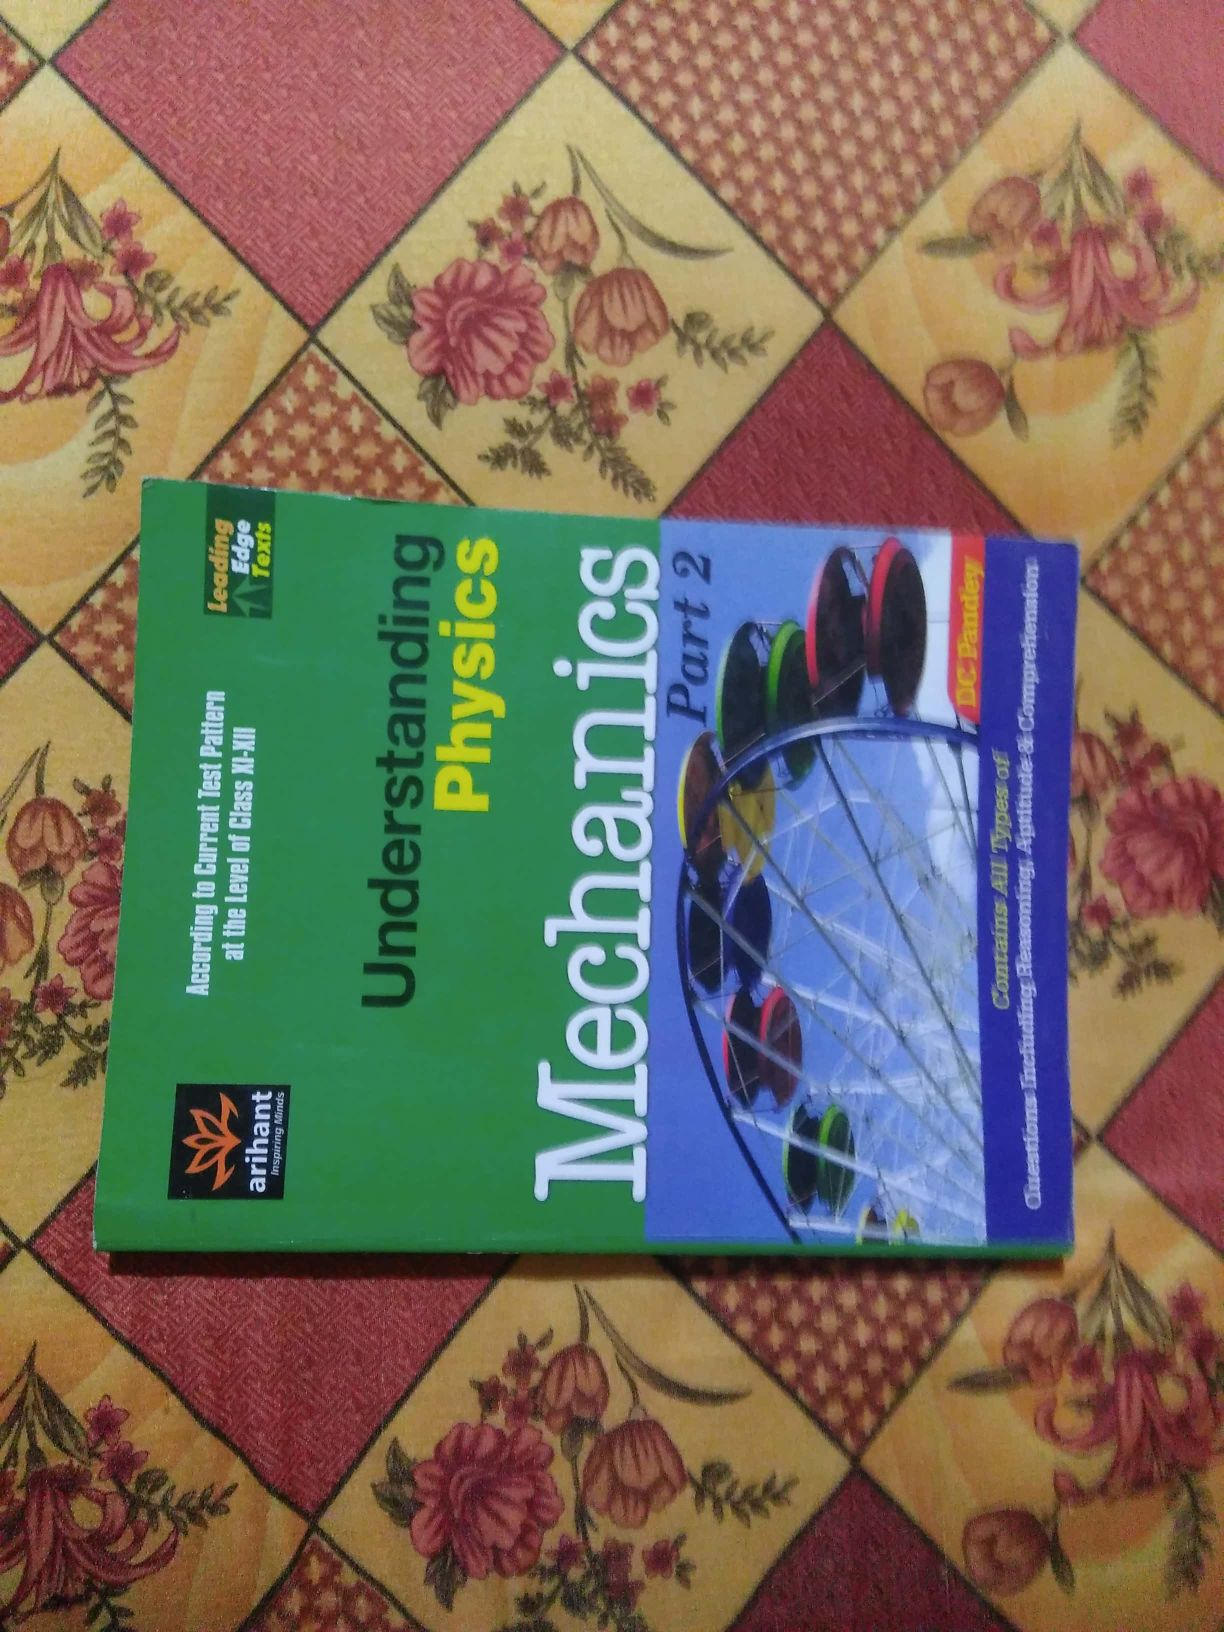mechanics: (60, 436, 1095, 1318)
